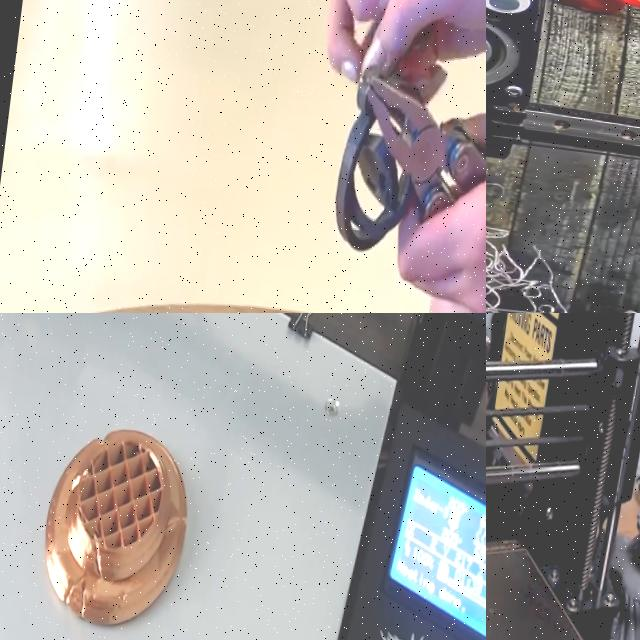spaghetti: (486, 160, 595, 313)
